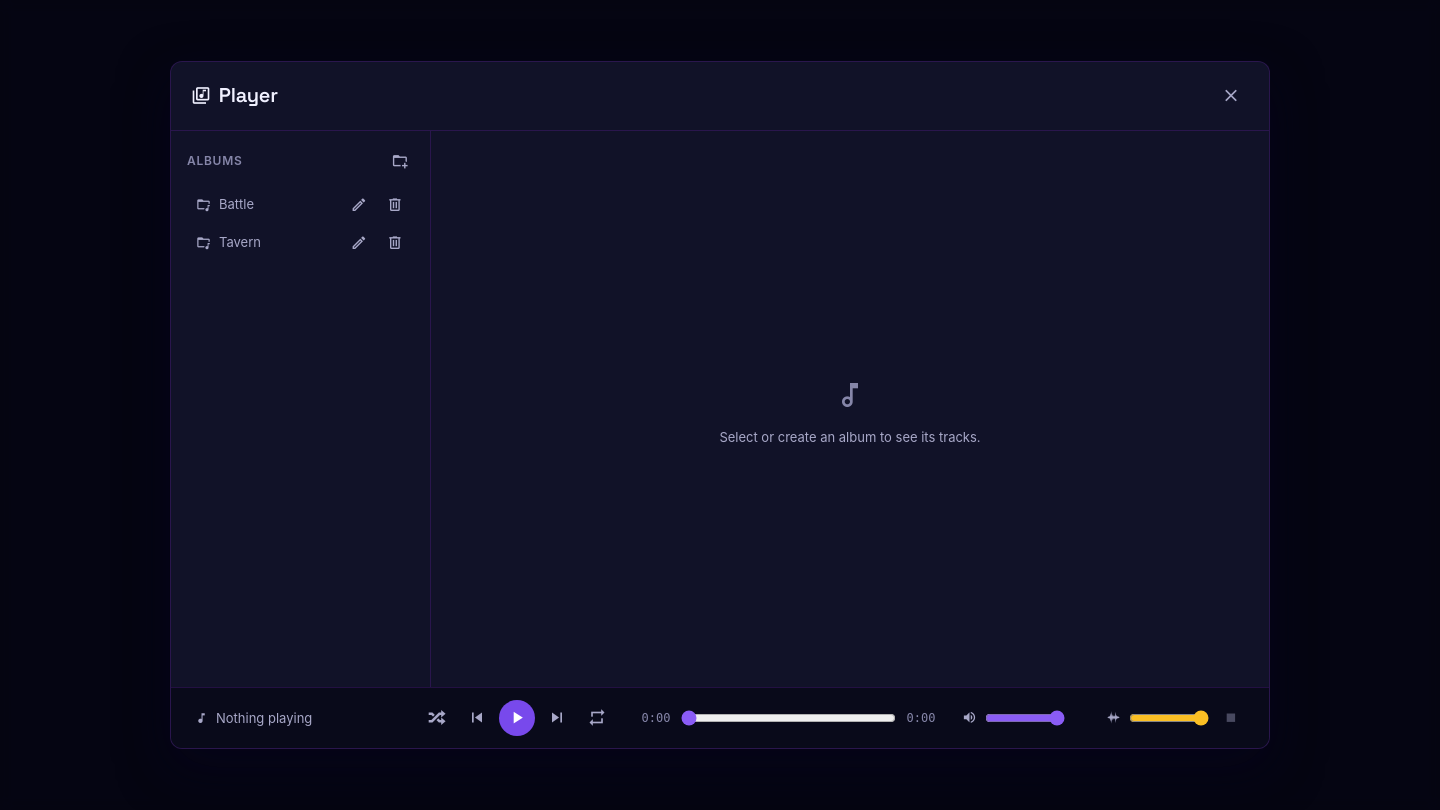
PlayerModal › says which track would not play
The width and height of the screenshot is (1440, 810).
Click the list item with class "album-item" showing "Battle".
click(237, 204)  # box [187,187,414,223]
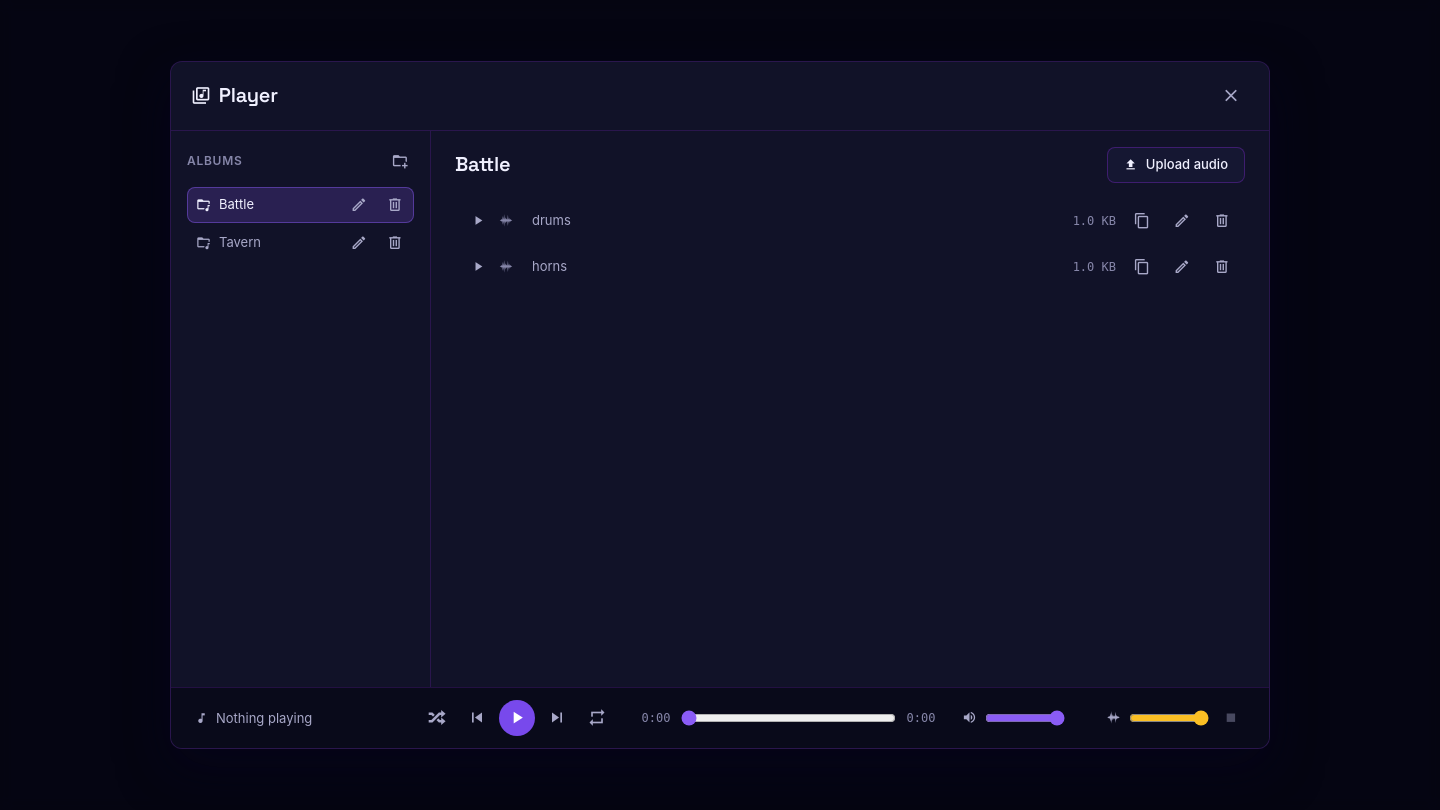
Click the 1st button with class "track-play-btn".
click(478, 221)  # box [464,207,492,235]
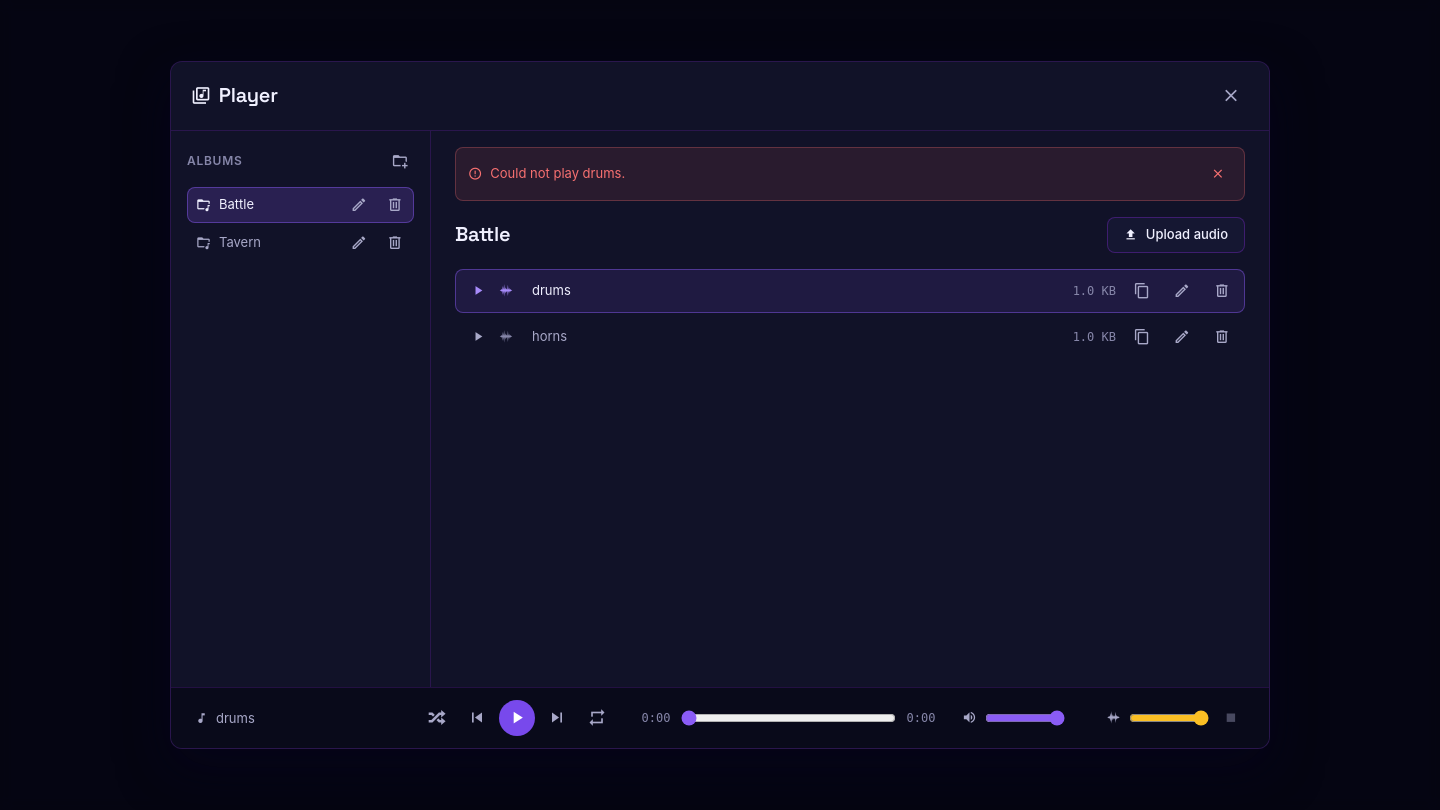
Expected: the number of list items with class "track-item" is 2, [455,269,1245,313]; [455,315,1245,359]
Expected: the message with class "action-error" reads "Could not play drums.", [490,165,625,181]
